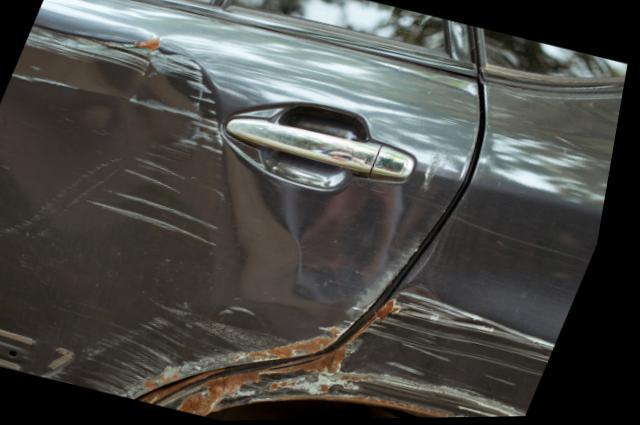dent: (279, 182, 407, 297)
scratch: (148, 290, 568, 419), (22, 21, 240, 250), (54, 299, 389, 400)
